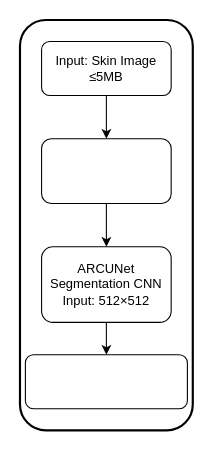
Image size: 212x449. Some labels were removed from this diagram. Each missing label, with the box of its shape:
Output: Lesion Mask (512x512): (24, 354, 187, 409)
Preproc: Resize 512×512 Normalize, Hair removal: (40, 138, 171, 204)
